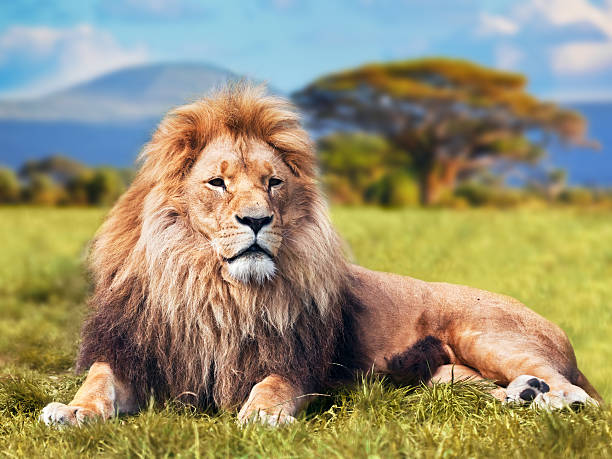lion: (78, 85, 366, 390)
